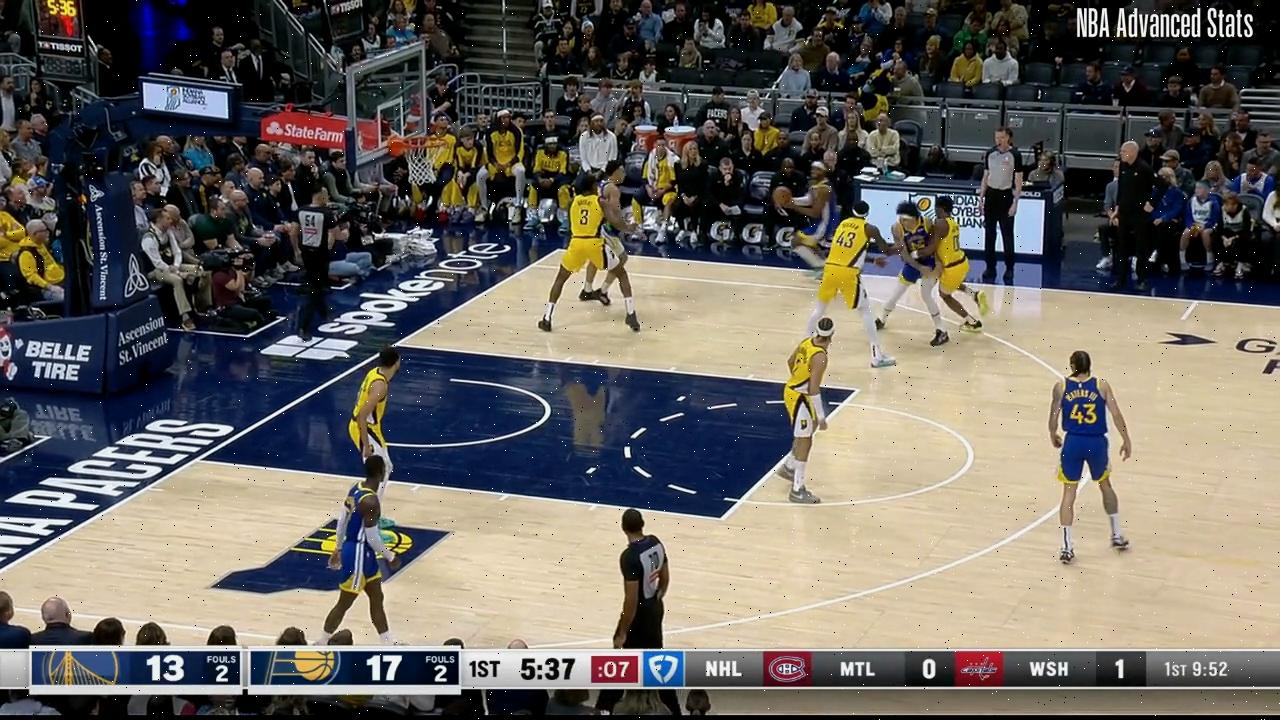basketball: (771, 183, 794, 208)
